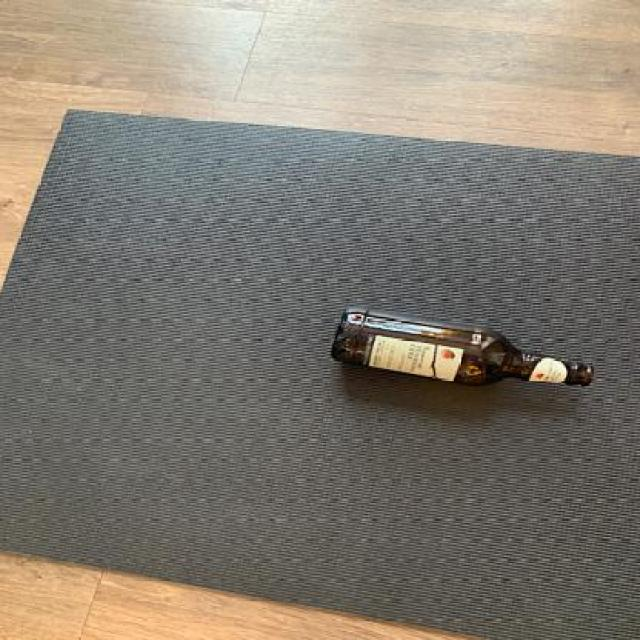trash: (327, 306, 595, 400)
